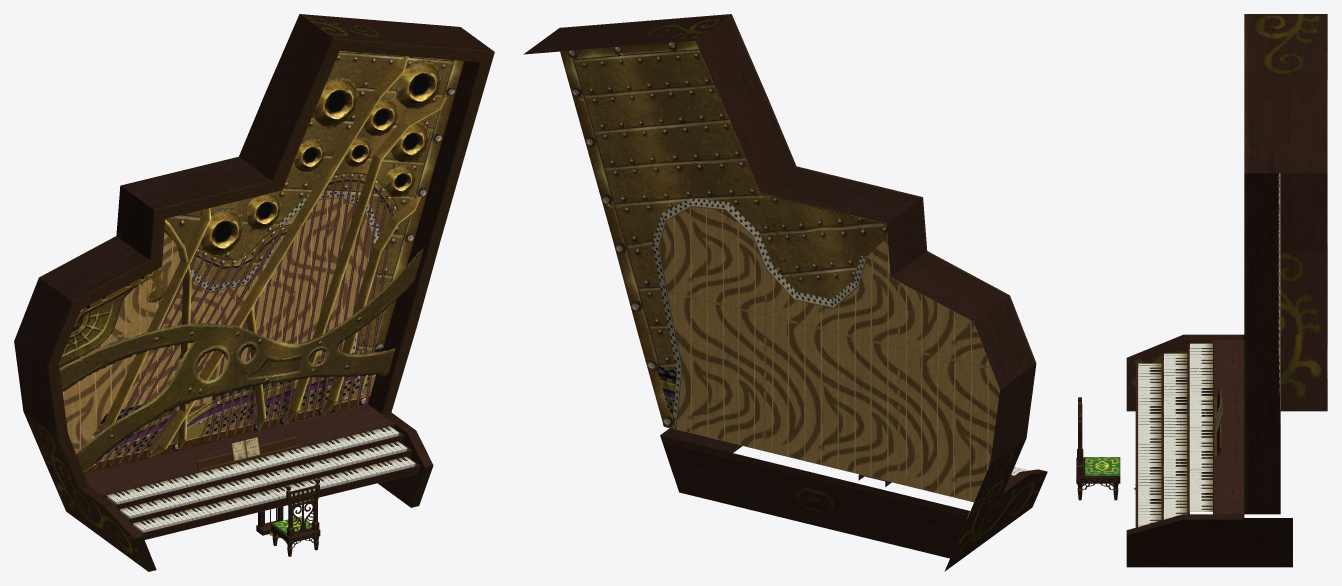
File: piano.dae
3 views of the same model, side by side, from view 1: azimuth 30°, elevation 25°; view 2: azimuth 150°, elevation 25°; view 3: azimuth 270°, elevation 25° (orthographic). The views are drawn at different scales.
Parts seen in each view (by area): view 1: piano; view 2: piano; view 3: piano.
Part boxes in pixels (bbox=[...]): piano: bbox=[14, 14, 494, 571]; piano: bbox=[523, 14, 1047, 571]; piano: bbox=[1076, 14, 1327, 567].
Size of the model in its own units: 3.8 by 1.52 by 3.58.
Materials: 6 (6 with a texture image).
